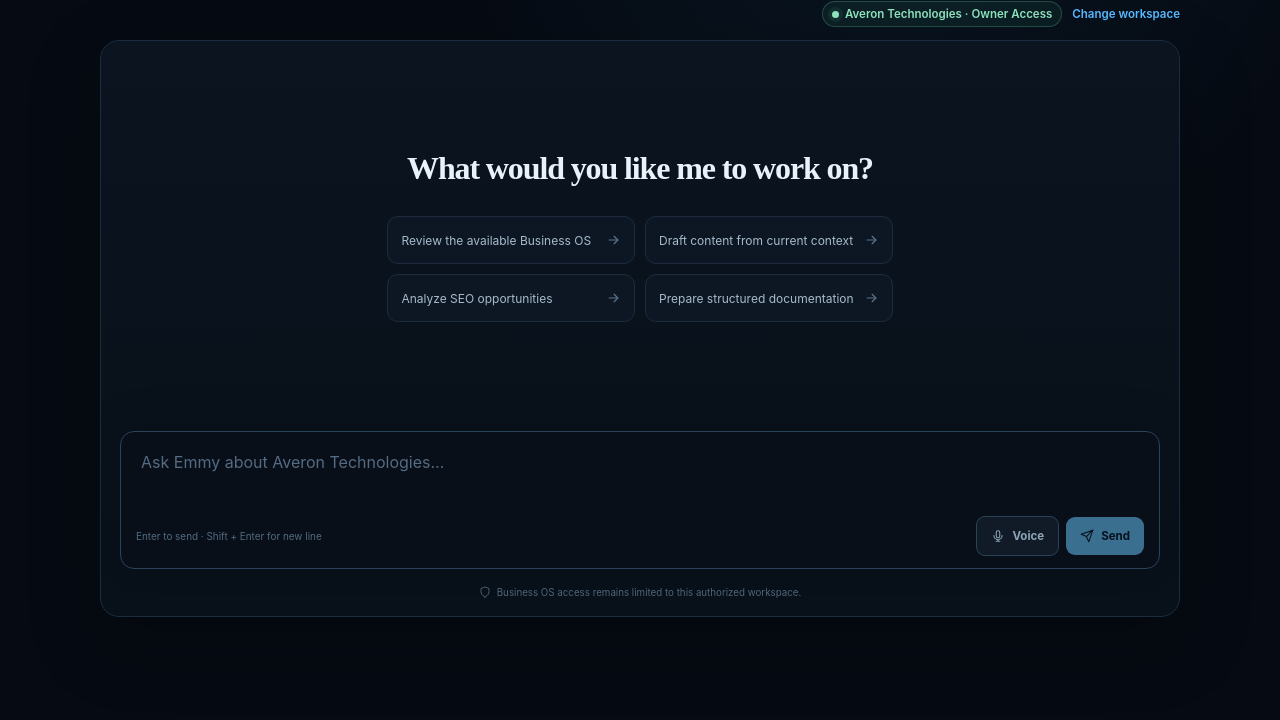
Test case: mounted PrivateEmmyChat generation lifecycle › keeps the mounted working row visible for thirty simulated seconds before the first token
The width and height of the screenshot is (1280, 720).
Check: the heading "What would you like me to work on?" is shown, box [407,150,873,187]
Type "Slow request" into the text box named "Message Emmy". click: (640, 474)
box: [133,444,1147,504]
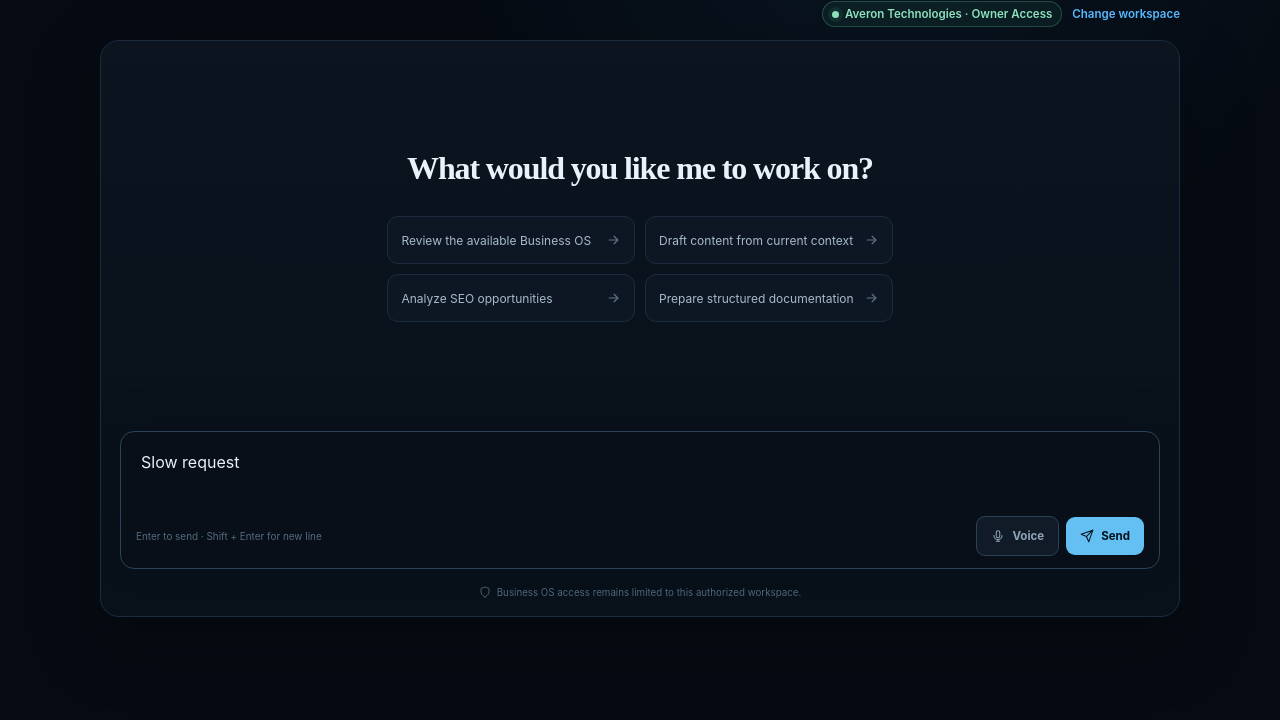
Submit the form named "Message Emmy", box [120,431,1160,569]
Wait 30000 ms
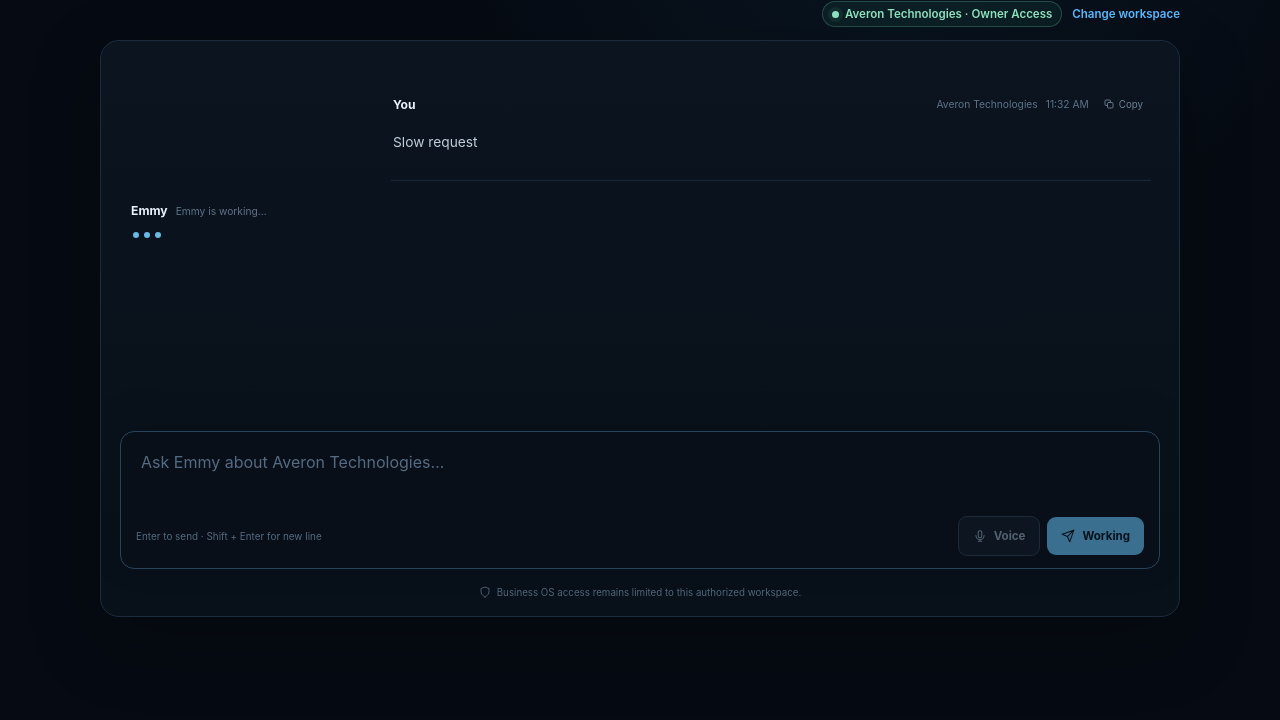
Check: the text "Emmy is working…" is shown, box [176,205,267,217]
